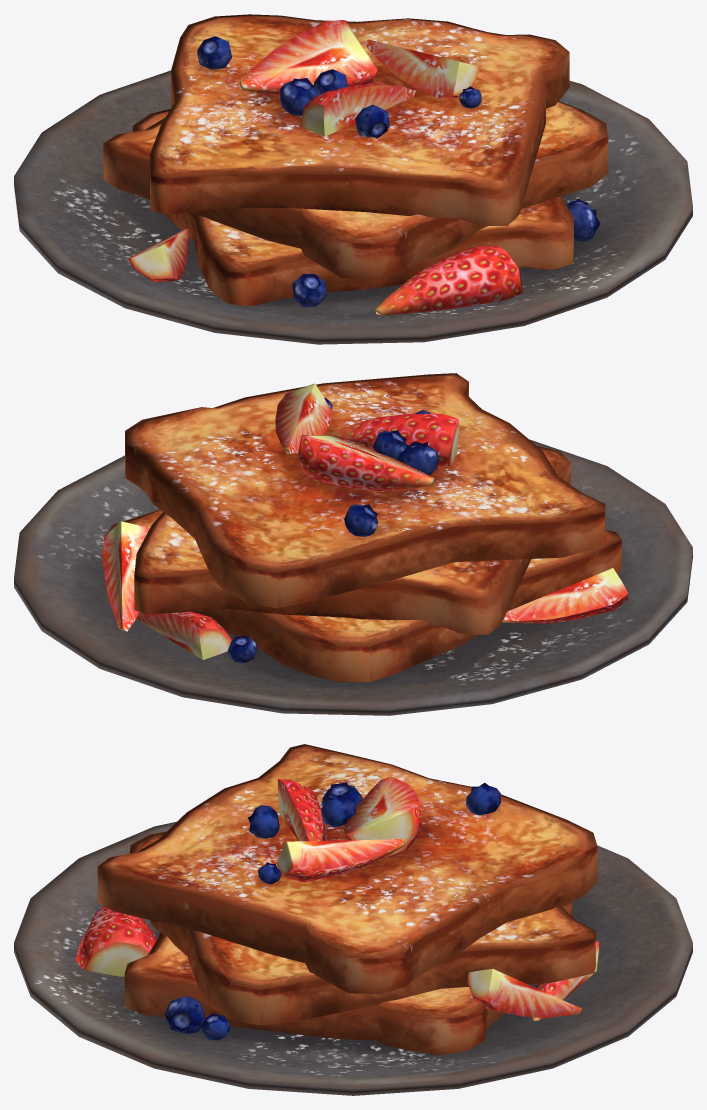
3 views of the same model, one above another, from view 1: azimuth 30°, elevation 25°; view 2: azimuth 150°, elevation 25°; view 3: azimuth 270°, elevation 25° (orthographic).
Parts seen in each view (by area): view 1: Toast3, Plate1, Toast1, Toast, StrawberryHalf, StrawberryHalf1, StrawberryQuarter1, StrawberryQuarter, StrawberryQuarter2, Blueberry, Blueberry7, Blueberry2 (+3 smaller); view 2: Toast3, Plate1, Toast1, Toast, StrawberryHalf1, StrawberryQuarter2, StrawberryQuarter, StrawberryQuarter4, StrawberryQuarter3, StrawberryQuarter1, Blueberry, Blueberry2 (+2 smaller); view 3: Toast3, Plate1, Toast1, Toast, StrawberryHalf1, StrawberryHalf, StrawberryQuarter1, StrawberryQuarter4, StrawberryQuarter, Blueberry8, Blueberry2, Blueberry3 (+4 smaller).
Boxes of the visible parts, x1,y1,x2,y2 form: Toast3: (150, 14, 569, 226); Plate1: (14, 70, 692, 344); Toast1: (103, 101, 608, 279); Toast: (132, 109, 573, 306); StrawberryHalf: (375, 245, 523, 315); StrawberryHalf1: (239, 20, 377, 95); StrawberryQuarter1: (364, 39, 480, 98); StrawberryQuarter: (300, 83, 415, 136); StrawberryQuarter2: (128, 228, 189, 281); Blueberry: (280, 78, 318, 115); Blueberry7: (292, 274, 326, 306); Blueberry2: (197, 36, 231, 69); Toast3: (125, 373, 605, 608); Plate1: (14, 439, 692, 715); Toast1: (134, 446, 571, 634); Toast: (108, 510, 621, 682); StrawberryHalf1: (297, 435, 434, 491); StrawberryQuarter2: (502, 568, 628, 623); StrawberryQuarter: (330, 413, 458, 466); StrawberryQuarter4: (102, 521, 149, 631); StrawberryQuarter3: (137, 611, 231, 659); StrawberryQuarter1: (275, 383, 332, 454); Blueberry: (398, 441, 438, 475); Blueberry2: (344, 504, 378, 536); Toast3: (97, 744, 597, 993); Plate1: (14, 821, 692, 1095); Toast1: (129, 831, 595, 1025); Toast: (124, 902, 572, 1055); StrawberryHalf1: (344, 776, 423, 857); StrawberryHalf: (75, 906, 156, 976); StrawberryQuarter1: (276, 839, 405, 882); StrawberryQuarter4: (467, 968, 581, 1018); StrawberryQuarter: (277, 779, 326, 841); Blueberry8: (164, 996, 205, 1033); Blueberry2: (466, 782, 500, 815); Blueberry3: (248, 805, 279, 838).
Bounding box in the file's own units: 0.2117 × 0.0617 × 0.2117.
Materials: 2 (2 with a texture image).
